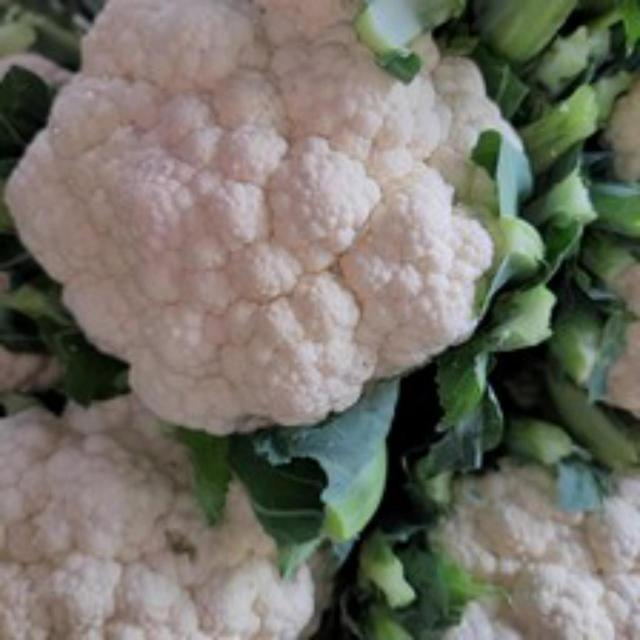cauliflower: (4, 0, 528, 448)
